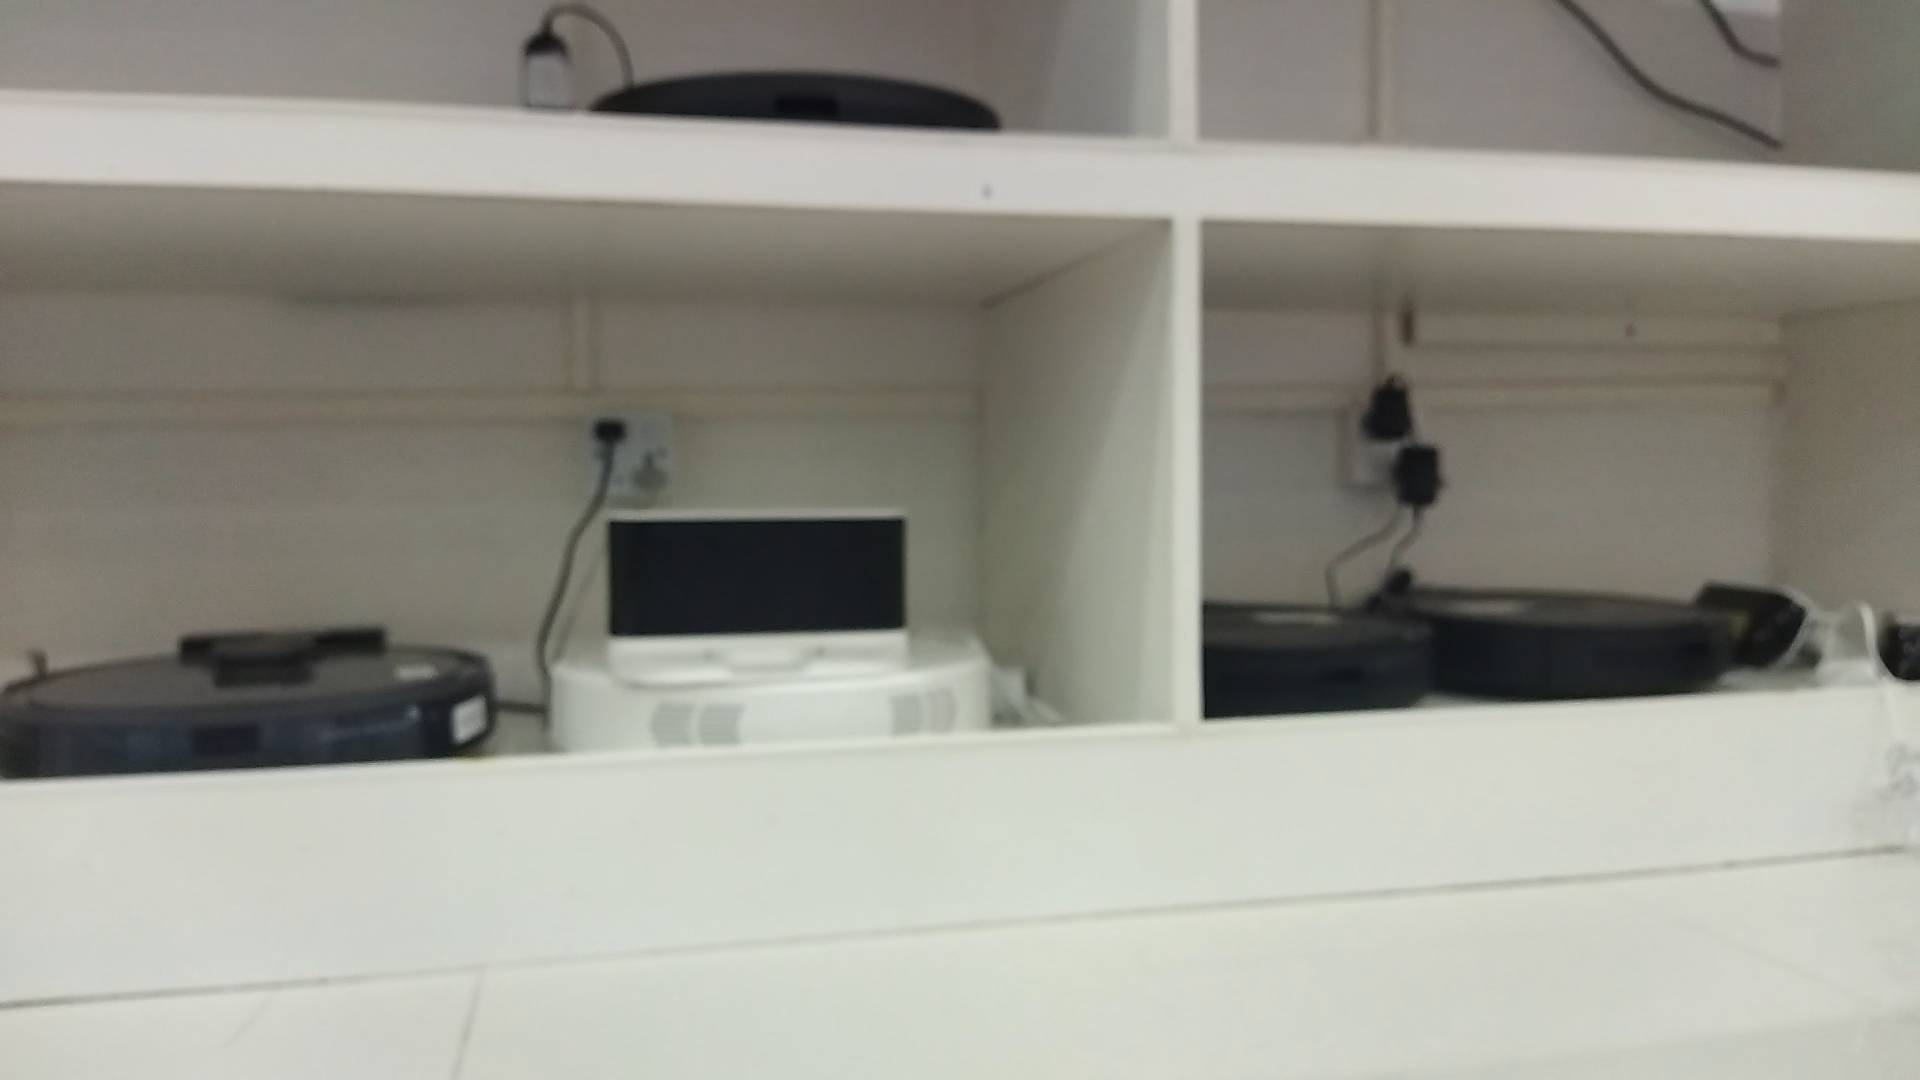recharge seat: (604, 505, 915, 684)
